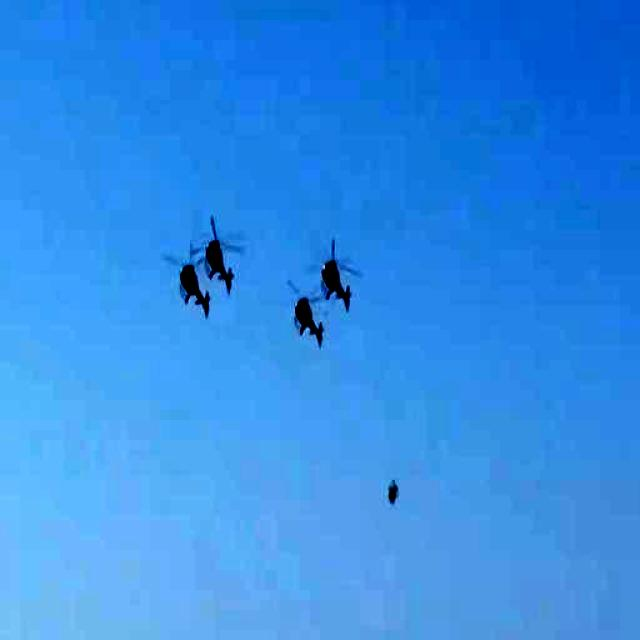drone: (316, 238, 371, 311), (174, 250, 215, 319), (284, 291, 328, 354), (204, 219, 240, 294)
